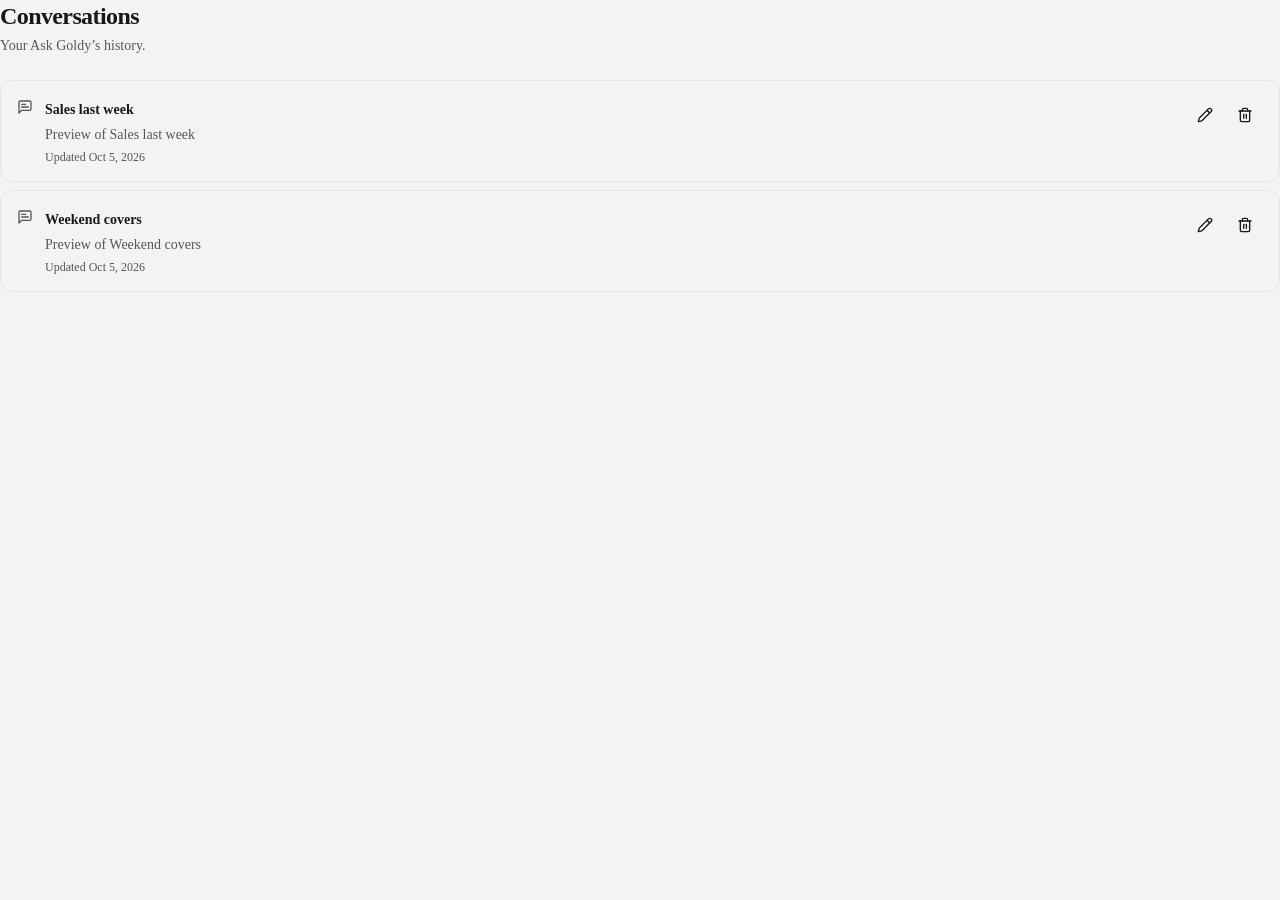
Test case: ConversationsScreen › deletes a thread and removes it from the list
The width and height of the screenshot is (1280, 900).
Expected: the button "Sales last week" is shown, [45, 100, 134, 120]
Click the button named "Delete Sales last week".
click(1245, 115)  # box [1227, 97, 1263, 133]
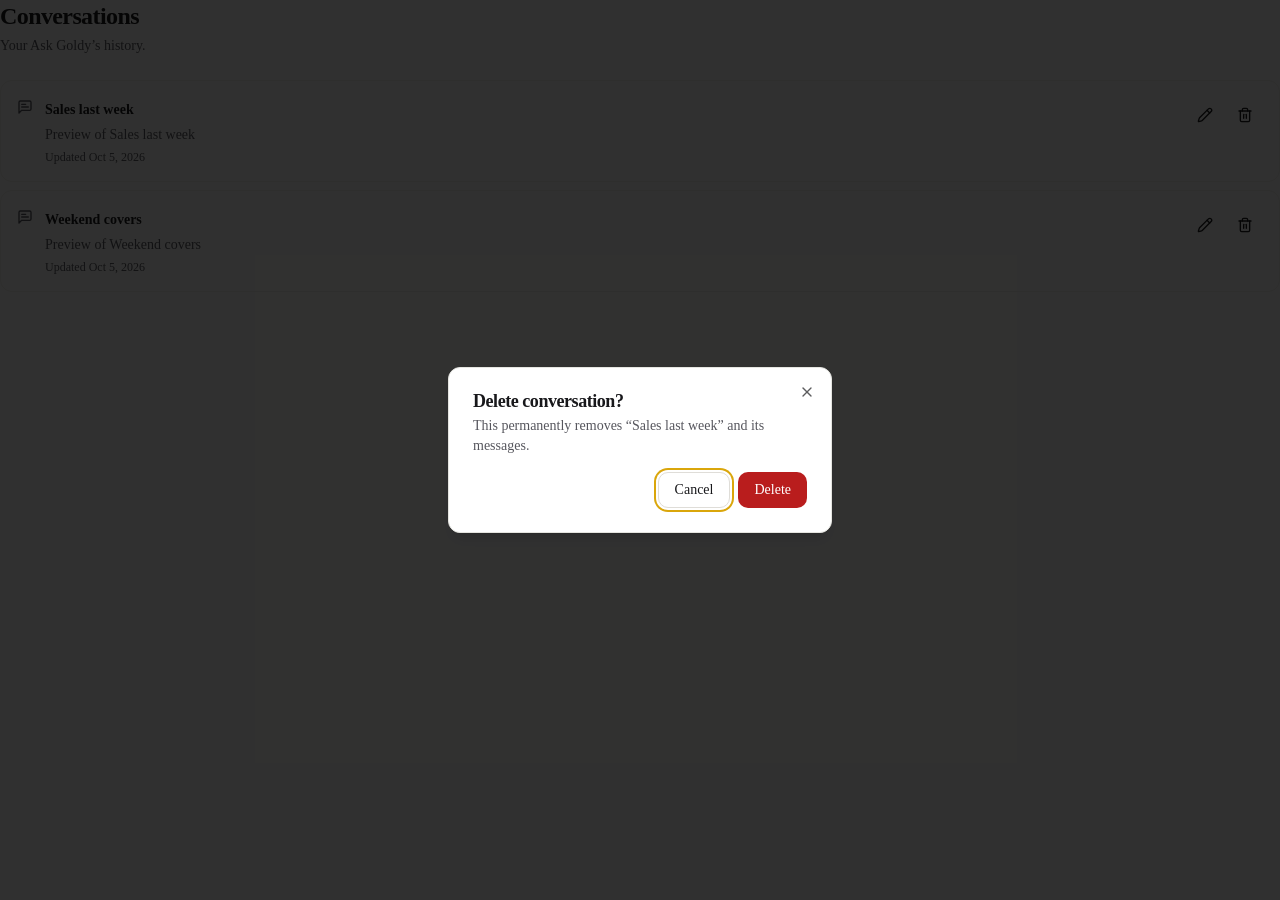
Click the button "Delete".
click(773, 490)  # box [738, 472, 807, 508]
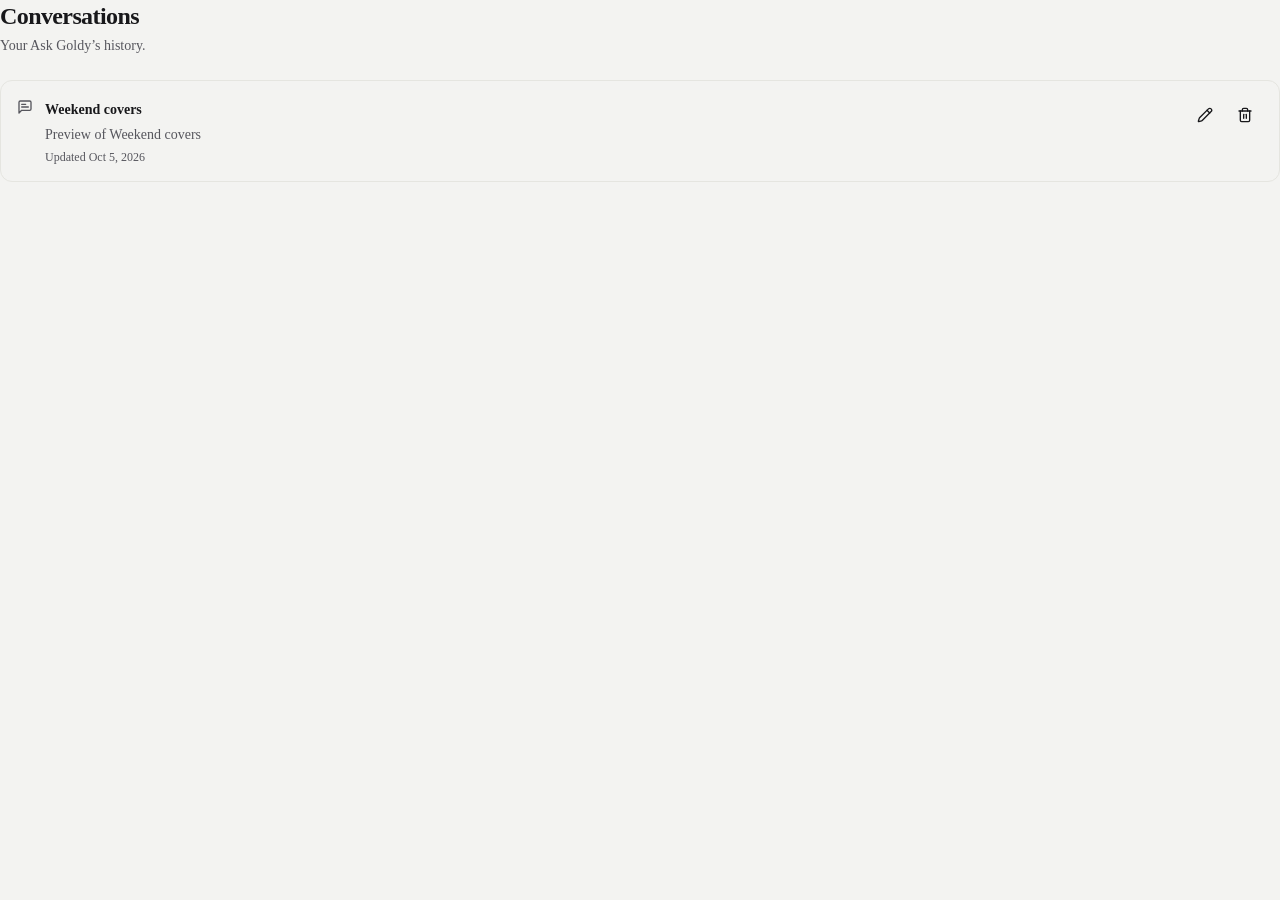
Expected: the button "Weekend covers" is shown, [45, 100, 142, 120]
Now the button "Sales last week" is gone
